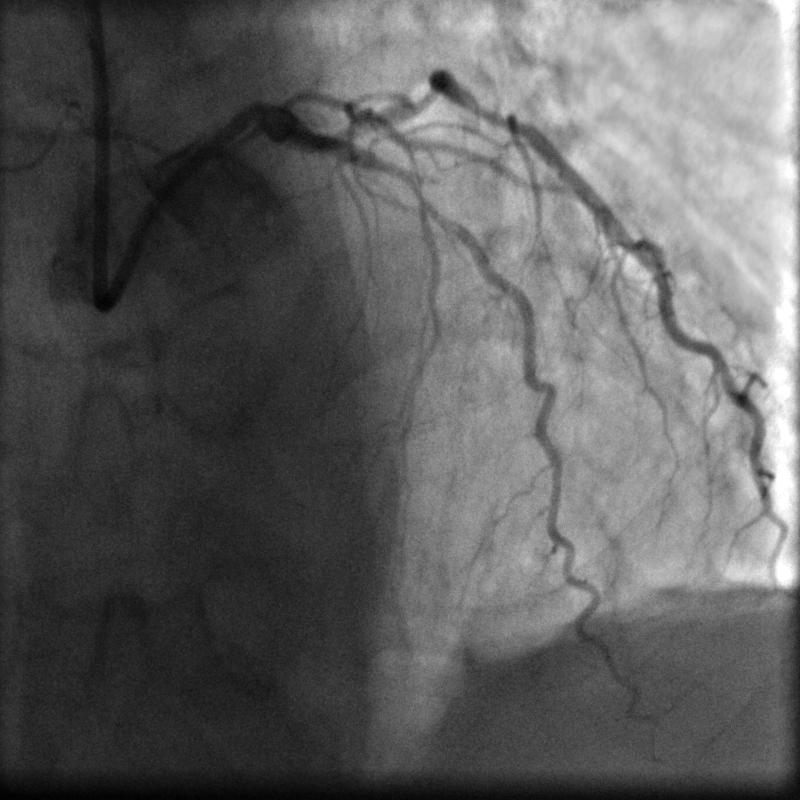Stenosis: (365, 141, 422, 201)
